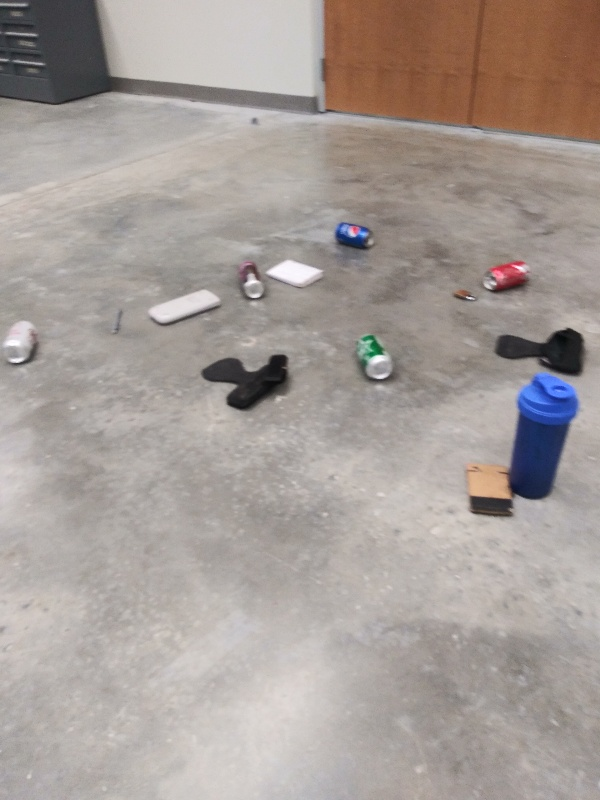can: (347, 326, 397, 385), (481, 255, 537, 296), (1, 315, 41, 372), (235, 257, 267, 304), (331, 220, 378, 250)
